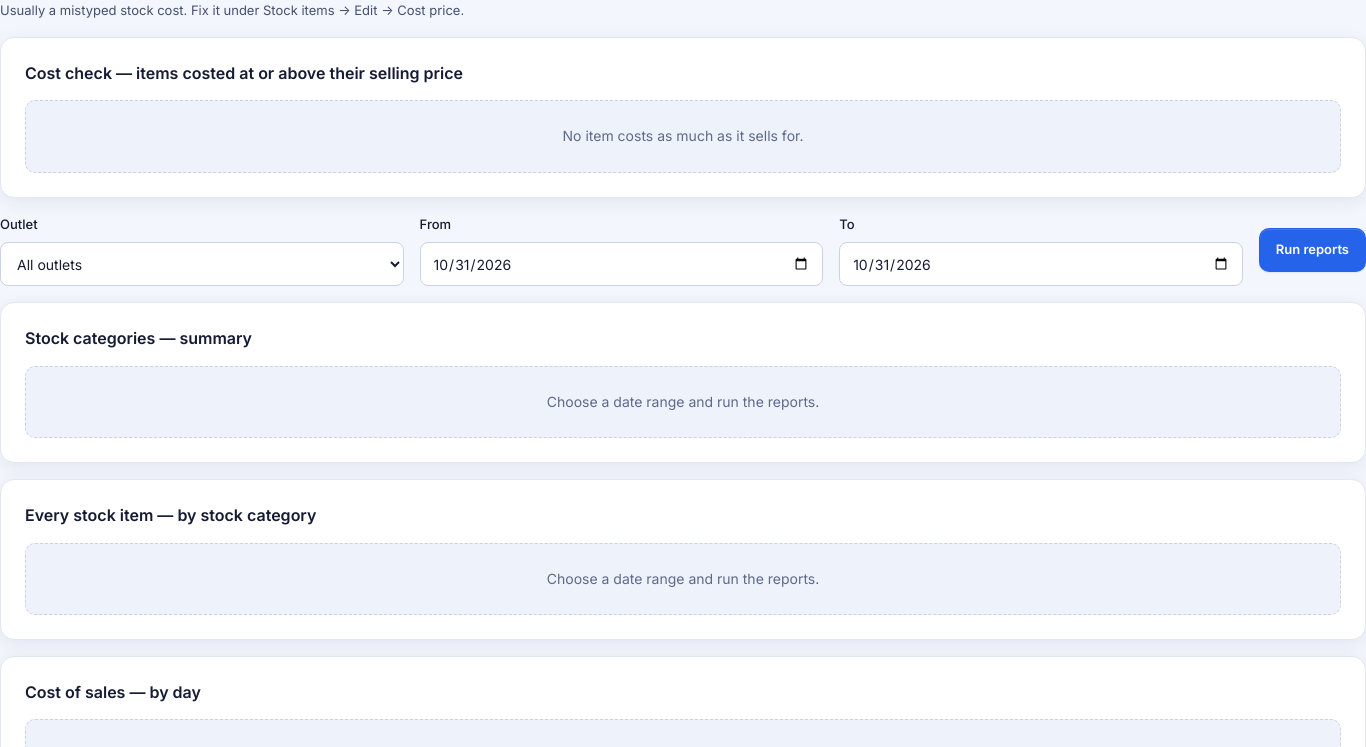
<StockReportsTab> › shows a real backend error when the reports fail to load
Click the button "Run reports".
click(1312, 250)  # box x1=1259 y1=228 x2=1365 y2=272
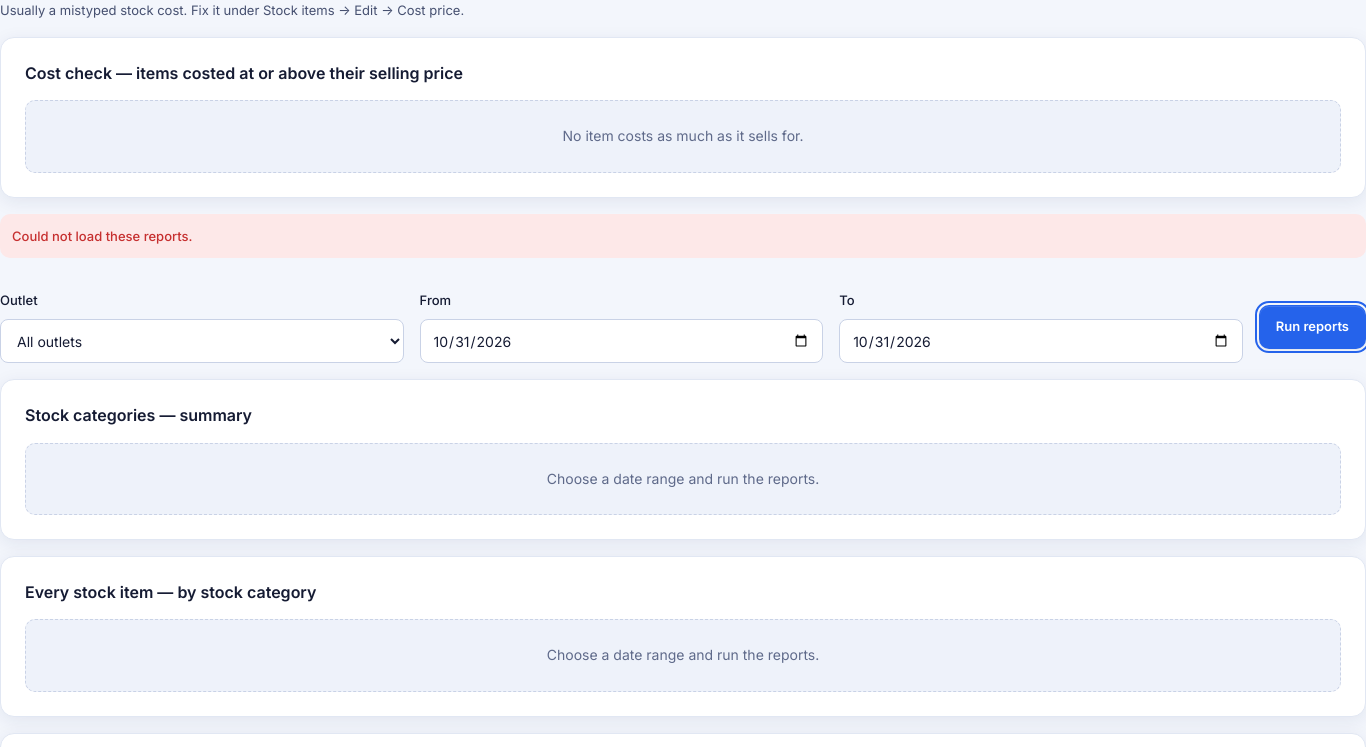
Now the text "Could not load these reports." is shown, box x1=0 y1=214 x2=1365 y2=258
